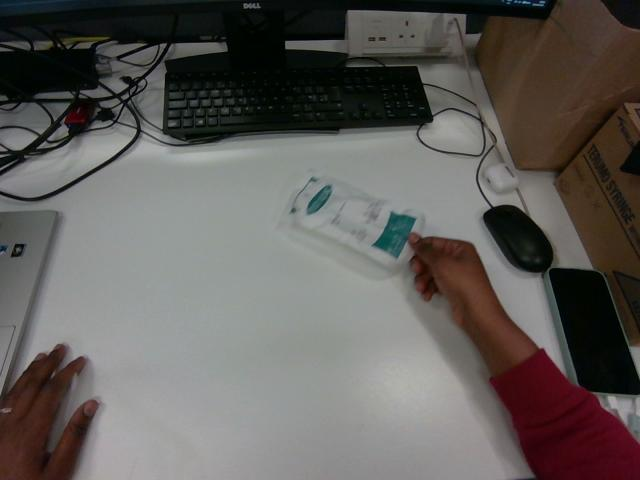gallipot: (281, 172, 423, 272)
